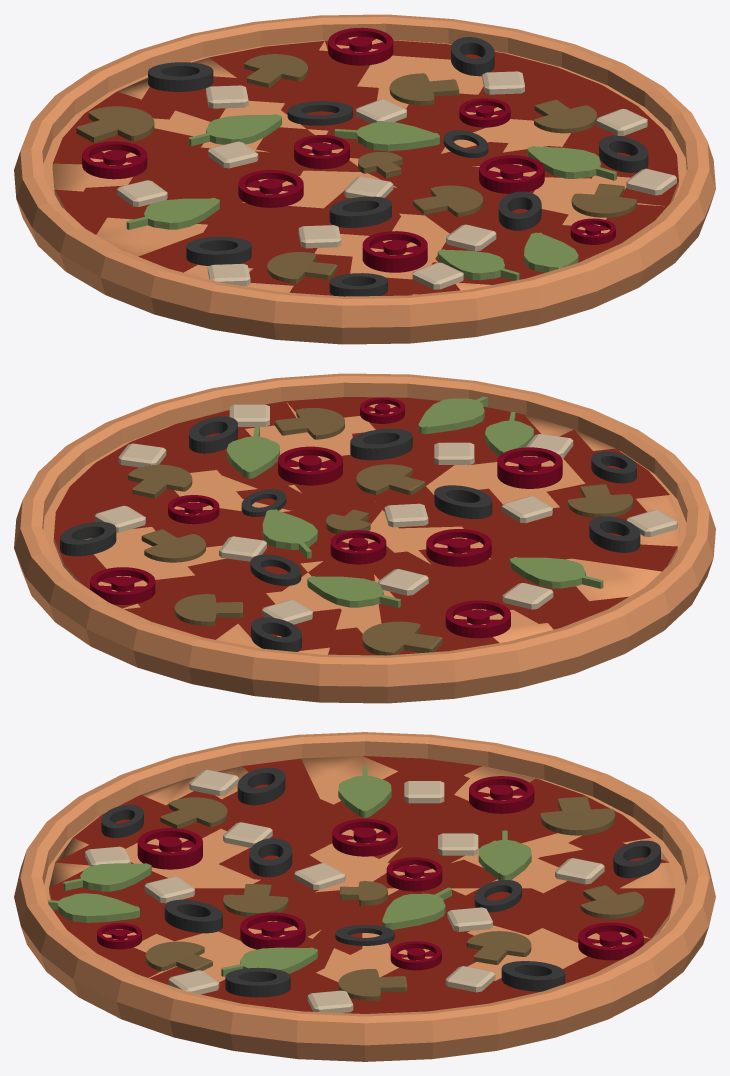
The model's file is pizza_1_partyassets.fbx.
The picture shows the model from 3 angles, top to bottom: view 1: azimuth 30°, elevation 25°; view 2: azimuth 150°, elevation 25°; view 3: azimuth 270°, elevation 25°; orthographic projection.
Parts seen in each view (by area): view 1: pizza_1_partyassets, Cube.029, Cube.074, Cube.039, Cube.038, Cube.030, Cube.040; view 2: pizza_1_partyassets, Cube.029, Cube.074, Cube.039, Cube.038, Cube.030, Cube.040; view 3: pizza_1_partyassets, Cube.029, Cube.074, Cube.039, Cube.038, Cube.040, Cube.030.
Boxes of the visible parts, x1,y1,x2,y2 form: pizza_1_partyassets: (14,14,715,344); Cube.029: (52,40,678,295); Cube.074: (82,27,615,272); Cube.039: (148,37,648,296); Cube.038: (76,54,637,283); Cube.030: (126,114,616,280); Cube.040: (117,71,676,289); pizza_1_partyassets: (14,373,715,703); Cube.029: (54,397,677,655); Cube.074: (90,397,562,638); Cube.039: (60,416,640,651); Cube.038: (128,408,633,655); Cube.030: (226,396,603,607); Cube.040: (95,404,677,624); pizza_1_partyassets: (14,732,715,1061); Cube.029: (49,756,675,1013); Cube.074: (97,776,643,970); Cube.039: (101,767,660,997); Cube.038: (145,796,644,1000); Cube.040: (85,769,604,1012); Cube.030: (47,766,531,976).
Size of the model in its own units: 43.34 by 2.84 by 43.34.
